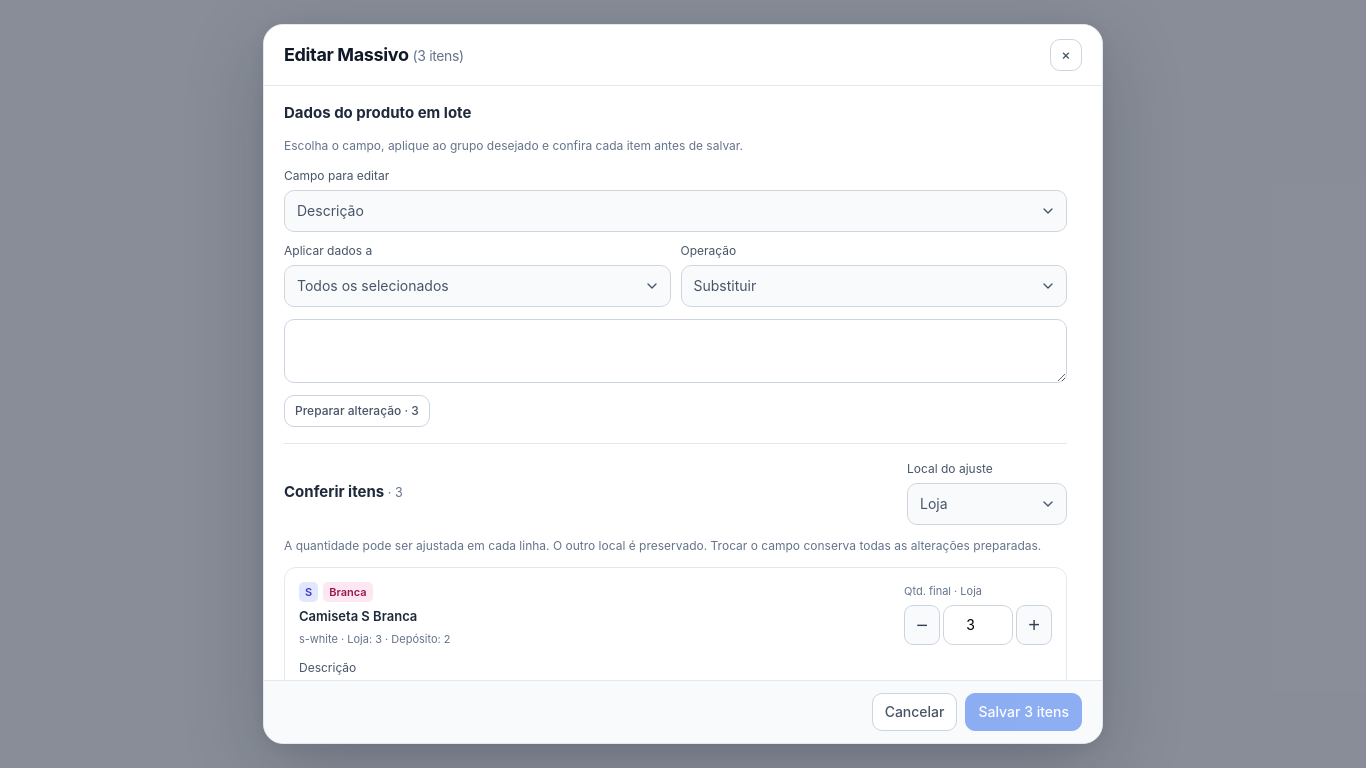
Test: blocks invalid final quantity  without losing the draft
Clear the number field named "Quantidade Camiseta S Branca" at (978, 625), box [943,605,1013,645]
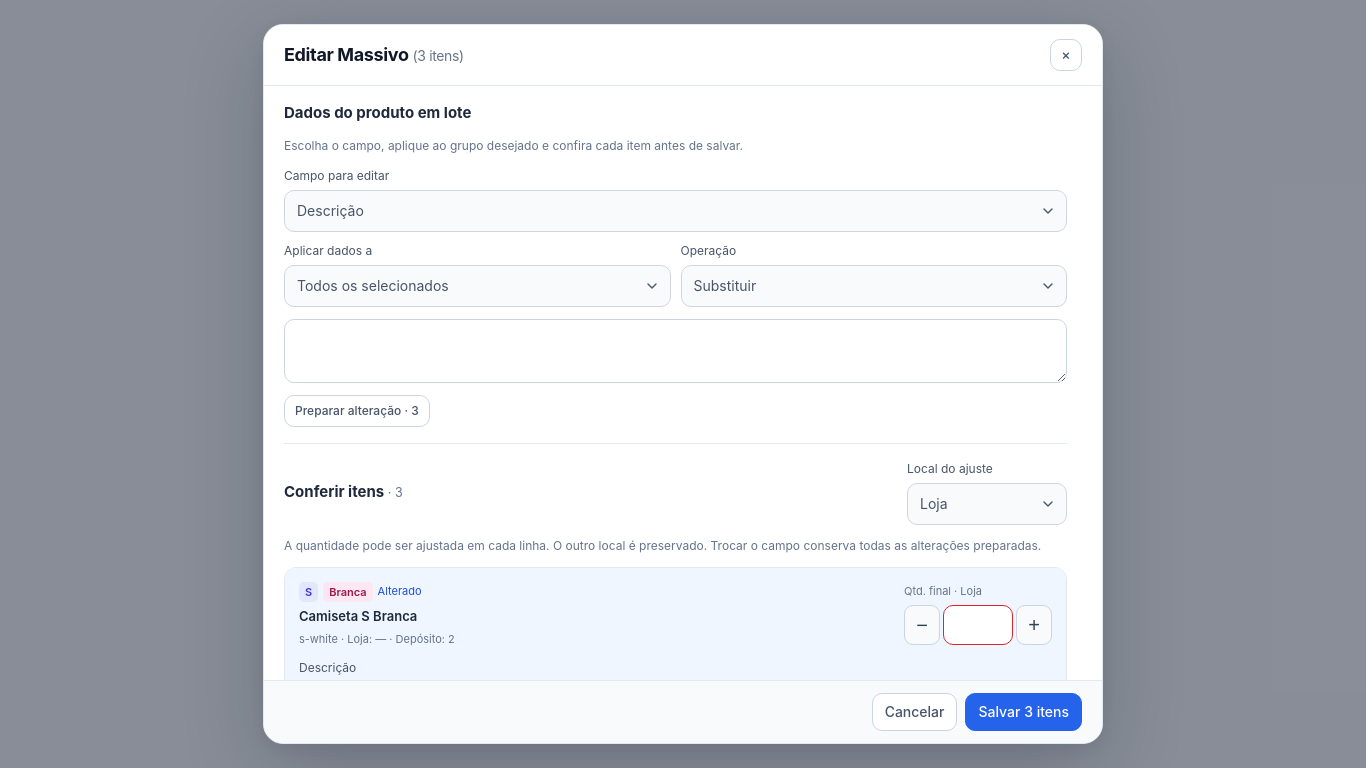
Click the button "Salvar 3 itens" at (1024, 712), box [966,693,1082,731]
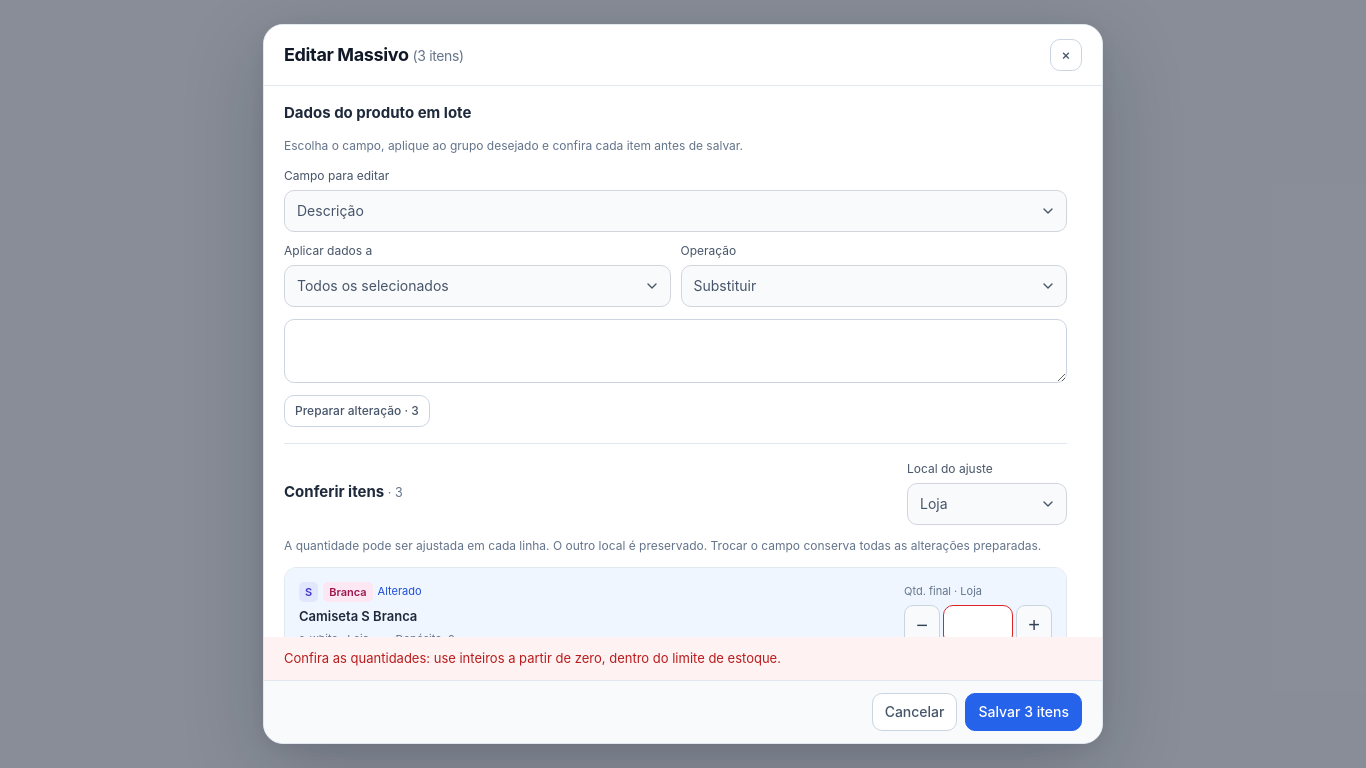
Expected: the text "Confira as quantidades" is shown, [284,650,781,666]
